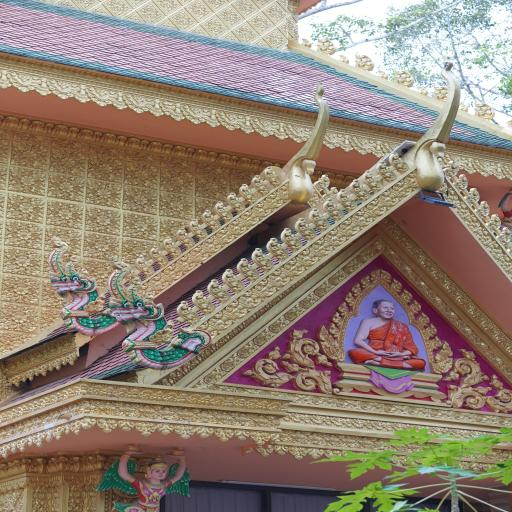hoa: (0, 302, 39, 334), (8, 164, 46, 196), (2, 273, 40, 305), (194, 172, 232, 202), (6, 220, 44, 250), (159, 166, 195, 197), (86, 178, 121, 209), (122, 210, 158, 240), (4, 247, 40, 277), (44, 251, 82, 279), (12, 140, 46, 171), (50, 172, 84, 203), (51, 147, 86, 177), (86, 205, 122, 234), (124, 160, 158, 190), (123, 185, 157, 215), (8, 194, 44, 222), (46, 226, 82, 254), (82, 232, 118, 260), (41, 279, 74, 309), (48, 200, 82, 229), (159, 192, 195, 219), (89, 154, 122, 183), (121, 238, 157, 264), (0, 330, 34, 355), (84, 258, 114, 285), (168, 6, 197, 32), (40, 307, 66, 334), (215, 4, 243, 28), (136, 1, 164, 24), (200, 15, 228, 37), (231, 21, 259, 43), (248, 10, 273, 34), (185, 0, 212, 22), (262, 2, 287, 24), (230, 0, 260, 18), (263, 28, 286, 49), (160, 218, 185, 237), (284, 14, 300, 41), (281, 428, 307, 444), (33, 486, 56, 504), (103, 0, 127, 16), (156, 0, 181, 15), (137, 403, 160, 419), (195, 197, 217, 213), (116, 401, 137, 417), (175, 406, 196, 422), (94, 400, 116, 415), (202, 0, 228, 12), (69, 486, 86, 504), (215, 408, 233, 425), (196, 408, 214, 424), (233, 411, 252, 426), (477, 446, 497, 460), (322, 432, 340, 447), (252, 412, 268, 428), (158, 404, 175, 419), (339, 434, 357, 448), (276, 0, 296, 12), (0, 138, 9, 164), (156, 17, 175, 29), (189, 24, 208, 36), (404, 440, 423, 452), (358, 435, 374, 449), (220, 31, 238, 43), (250, 0, 274, 9), (79, 400, 94, 414), (86, 487, 99, 503), (306, 432, 322, 445), (50, 487, 62, 504), (124, 12, 144, 22), (250, 37, 268, 48), (6, 490, 20, 504), (0, 163, 7, 191), (462, 444, 476, 458), (498, 448, 512, 462), (67, 403, 82, 416), (268, 414, 280, 430), (374, 437, 388, 450), (125, 0, 146, 8), (390, 440, 404, 451), (30, 417, 43, 428), (0, 191, 5, 218), (50, 410, 61, 422), (385, 403, 396, 414), (22, 420, 33, 431), (254, 336, 266, 346), (284, 312, 298, 320), (361, 401, 372, 411), (432, 408, 442, 419), (287, 392, 297, 403), (221, 362, 232, 372), (42, 414, 52, 425), (444, 308, 455, 318), (336, 399, 348, 408), (0, 428, 9, 440), (7, 426, 16, 438), (48, 345, 57, 357), (385, 247, 395, 257), (4, 364, 14, 374), (312, 396, 323, 405), (477, 414, 488, 423), (62, 340, 71, 351), (238, 349, 250, 357), (344, 266, 356, 274), (455, 411, 464, 421), (401, 263, 411, 272), (20, 359, 30, 368), (28, 356, 37, 366), (35, 352, 44, 362), (315, 288, 326, 296), (16, 423, 24, 434), (358, 254, 370, 261), (410, 407, 419, 416), (330, 276, 339, 285), (476, 339, 485, 348), (211, 384, 221, 392), (270, 324, 280, 332), (300, 300, 310, 308), (372, 244, 382, 252), (59, 406, 67, 416), (431, 293, 439, 303), (236, 388, 247, 395), (205, 377, 216, 384), (414, 280, 425, 287), (14, 361, 21, 372), (177, 0, 192, 5), (460, 324, 468, 333), (491, 354, 499, 363), (262, 390, 272, 397), (505, 368, 512, 378), (43, 348, 50, 358), (71, 337, 76, 351), (56, 343, 62, 354), (500, 416, 508, 424)
la: (284, 330, 332, 370), (251, 352, 293, 390), (450, 350, 488, 392), (448, 383, 486, 410), (486, 376, 512, 414), (319, 325, 345, 362), (293, 369, 332, 393), (178, 102, 212, 126), (122, 91, 154, 115), (86, 84, 116, 107), (48, 77, 79, 99), (9, 70, 39, 92), (217, 108, 244, 132), (250, 116, 278, 138), (160, 155, 196, 171), (51, 137, 88, 152), (349, 134, 375, 155), (438, 340, 454, 374), (88, 142, 124, 157), (286, 122, 314, 141), (12, 131, 50, 145), (471, 156, 495, 178), (197, 161, 229, 177), (124, 150, 160, 164), (73, 82, 94, 105), (111, 88, 131, 111), (322, 130, 343, 150), (35, 75, 53, 98), (202, 107, 221, 128), (135, 420, 157, 438), (97, 416, 118, 434), (148, 96, 166, 117), (240, 112, 257, 134), (446, 153, 466, 171), (170, 100, 186, 122), (274, 120, 290, 142), (176, 423, 196, 440), (230, 168, 256, 181), (214, 426, 234, 442), (339, 132, 354, 153), (491, 160, 506, 181), (195, 424, 214, 440), (462, 156, 478, 174), (289, 445, 308, 460), (160, 99, 175, 118), (370, 138, 384, 158), (250, 430, 269, 444), (0, 68, 12, 90), (382, 140, 400, 154), (324, 448, 340, 463), (88, 385, 108, 397), (118, 418, 135, 432), (114, 386, 131, 400), (158, 423, 176, 436), (256, 443, 274, 456), (138, 389, 156, 402), (81, 417, 97, 431), (148, 140, 164, 154), (162, 392, 180, 404), (186, 393, 204, 405), (210, 396, 228, 408), (228, 352, 242, 367), (391, 454, 406, 468), (234, 428, 250, 441), (308, 447, 324, 460), (33, 504, 58, 512), (454, 460, 470, 472), (292, 302, 305, 316), (127, 137, 141, 150), (237, 156, 251, 169), (347, 400, 362, 412), (211, 367, 226, 379), (260, 328, 275, 340), (274, 444, 289, 456), (355, 451, 370, 463), (503, 162, 512, 182), (274, 317, 290, 328), (499, 342, 512, 355), (53, 124, 66, 137), (194, 148, 207, 161), (323, 396, 337, 408), (66, 352, 78, 366), (268, 401, 282, 413), (3, 116, 17, 128), (101, 132, 115, 144), (173, 145, 187, 157), (30, 121, 45, 132), (310, 414, 326, 424), (430, 425, 446, 435), (372, 402, 385, 414), (245, 340, 258, 352), (406, 455, 419, 467), (218, 152, 230, 165), (396, 405, 410, 416), (306, 292, 320, 303), (71, 421, 82, 435), (332, 416, 346, 427), (352, 418, 366, 429), (78, 129, 92, 140), (83, 502, 98, 512), (442, 409, 454, 421), (296, 395, 312, 404), (69, 503, 85, 512), (408, 270, 420, 282), (464, 412, 477, 423), (475, 316, 488, 327), (349, 259, 363, 269), (43, 430, 53, 444), (341, 450, 355, 460), (289, 412, 303, 422), (372, 420, 386, 430), (393, 422, 407, 432), (245, 400, 259, 410), (116, 134, 126, 148), (28, 476, 39, 488), (39, 476, 50, 488), (451, 314, 462, 326), (427, 266, 439, 277), (488, 329, 500, 340), (18, 118, 29, 130), (418, 407, 431, 417), (0, 445, 10, 458), (470, 462, 483, 472), (484, 463, 497, 473), (438, 279, 451, 289), (462, 304, 475, 314), (17, 439, 26, 453), (34, 434, 43, 448), (53, 427, 62, 441), (488, 414, 500, 424), (63, 476, 75, 486), (270, 432, 280, 444), (450, 428, 462, 438), (234, 397, 244, 409), (416, 254, 428, 264), (68, 126, 78, 138), (272, 392, 288, 399), (196, 381, 210, 389), (363, 248, 377, 256), (8, 442, 18, 453), (62, 424, 72, 435), (322, 281, 334, 290), (394, 254, 403, 266), (390, 228, 402, 237), (402, 241, 414, 250), (260, 160, 272, 169), (219, 386, 236, 392), (1, 502, 11, 512), (74, 476, 84, 486), (384, 421, 394, 431), (423, 424, 433, 434), (38, 366, 48, 376), (438, 300, 448, 310), (468, 330, 478, 340), (452, 292, 462, 302), (25, 436, 34, 447), (303, 413, 312, 424), (49, 394, 58, 405), (499, 360, 508, 371), (93, 131, 102, 142), (55, 392, 63, 404), (61, 389, 69, 401), (80, 384, 88, 396), (163, 143, 171, 155), (208, 151, 216, 163), (230, 154, 238, 166), (366, 419, 375, 429), (382, 224, 397, 230), (85, 475, 93, 486), (13, 375, 21, 386), (26, 370, 34, 381), (53, 359, 61, 370), (248, 389, 262, 395), (6, 410, 13, 422), (45, 122, 52, 134), (252, 158, 259, 170), (336, 272, 346, 280), (46, 361, 54, 371), (38, 398, 46, 408), (260, 401, 268, 411), (422, 284, 430, 294), (484, 346, 492, 356), (186, 148, 194, 158), (107, 385, 113, 398), (0, 482, 7, 493), (463, 429, 470, 440), (16, 406, 23, 417), (203, 395, 210, 406), (380, 217, 391, 224), (407, 423, 416, 431), (471, 430, 480, 438), (132, 388, 138, 400), (227, 397, 233, 409), (411, 248, 420, 256), (485, 323, 494, 331), (56, 476, 63, 486), (21, 404, 28, 414), (141, 140, 148, 150), (50, 476, 56, 487), (94, 475, 100, 486), (44, 396, 50, 407), (68, 388, 74, 399), (180, 393, 186, 404), (0, 414, 8, 422), (461, 298, 469, 306), (20, 373, 27, 382), (436, 273, 445, 280), (326, 415, 332, 425), (33, 367, 39, 377), (60, 356, 66, 366), (33, 400, 39, 410), (73, 386, 79, 396), (157, 390, 162, 402), (283, 404, 289, 414), (423, 262, 433, 268), (448, 286, 458, 292), (13, 481, 20, 489), (20, 480, 27, 488), (27, 404, 34, 412), (12, 408, 17, 419), (346, 418, 352, 427), (445, 427, 451, 436), (472, 312, 481, 318), (498, 336, 507, 342), (7, 482, 13, 490), (416, 424, 424, 430), (399, 236, 407, 242), (8, 378, 13, 387), (508, 417, 512, 424)
lua: (190, 290, 217, 313), (220, 269, 247, 292), (176, 302, 202, 325), (236, 257, 260, 281), (250, 248, 274, 271), (266, 237, 290, 260), (208, 278, 230, 302), (348, 179, 372, 201), (322, 198, 345, 220), (280, 228, 302, 250), (294, 218, 316, 240), (308, 208, 329, 230), (336, 188, 357, 210), (474, 99, 495, 121), (200, 209, 220, 232), (362, 170, 384, 190), (148, 245, 168, 267), (212, 200, 232, 222), (283, 257, 308, 274), (355, 51, 374, 73), (162, 237, 181, 259), (211, 311, 235, 328), (312, 237, 336, 254), (376, 161, 396, 181), (390, 151, 410, 171), (394, 68, 414, 88), (317, 37, 336, 58), (270, 267, 291, 286), (176, 227, 194, 249), (188, 218, 206, 240), (226, 298, 248, 316), (256, 278, 278, 296), (340, 217, 362, 235), (367, 197, 389, 215), (241, 289, 264, 306), (226, 192, 245, 212), (137, 255, 154, 277), (326, 228, 349, 244), (190, 245, 213, 261), (238, 184, 256, 204), (381, 188, 401, 206), (299, 247, 320, 264), (264, 166, 280, 188), (354, 209, 376, 225), (239, 209, 261, 225), (394, 178, 413, 196), (151, 273, 171, 290), (218, 227, 237, 244), (252, 175, 268, 195), (202, 320, 220, 337), (484, 239, 502, 256), (432, 83, 448, 102), (178, 254, 197, 270), (255, 200, 274, 216), (166, 265, 187, 279), (141, 283, 160, 298), (229, 219, 248, 234), (465, 186, 479, 206), (488, 212, 502, 232), (462, 212, 479, 228), (474, 224, 490, 241), (268, 190, 285, 206), (494, 252, 510, 268), (456, 172, 468, 193), (500, 226, 512, 246), (314, 176, 330, 191), (406, 170, 421, 186), (452, 200, 468, 215), (444, 160, 458, 177), (478, 199, 490, 218), (442, 187, 457, 202), (428, 335, 442, 351), (343, 292, 357, 307), (205, 238, 224, 249), (426, 321, 438, 338), (380, 268, 392, 284), (126, 271, 142, 283), (417, 310, 428, 326), (360, 274, 372, 288), (338, 302, 350, 316), (328, 323, 340, 337), (351, 283, 363, 296), (331, 311, 343, 324), (416, 85, 430, 96), (393, 279, 403, 294), (412, 299, 422, 314), (300, 36, 312, 48), (404, 288, 412, 305), (280, 184, 290, 197), (370, 268, 380, 280), (339, 55, 351, 65), (377, 70, 388, 79), (459, 102, 468, 112), (506, 264, 512, 279)
ran: (110, 296, 207, 370), (50, 272, 118, 334)
than: (107, 445, 191, 512), (355, 296, 427, 373)
